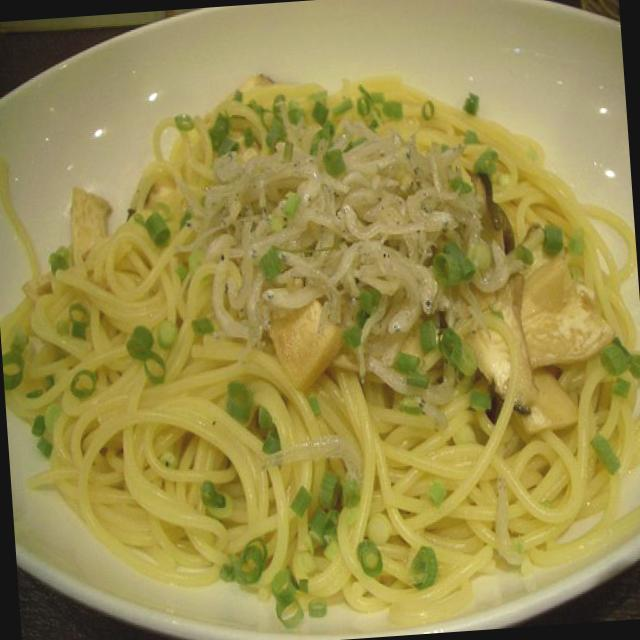Pasta: (0, 45, 640, 624)
